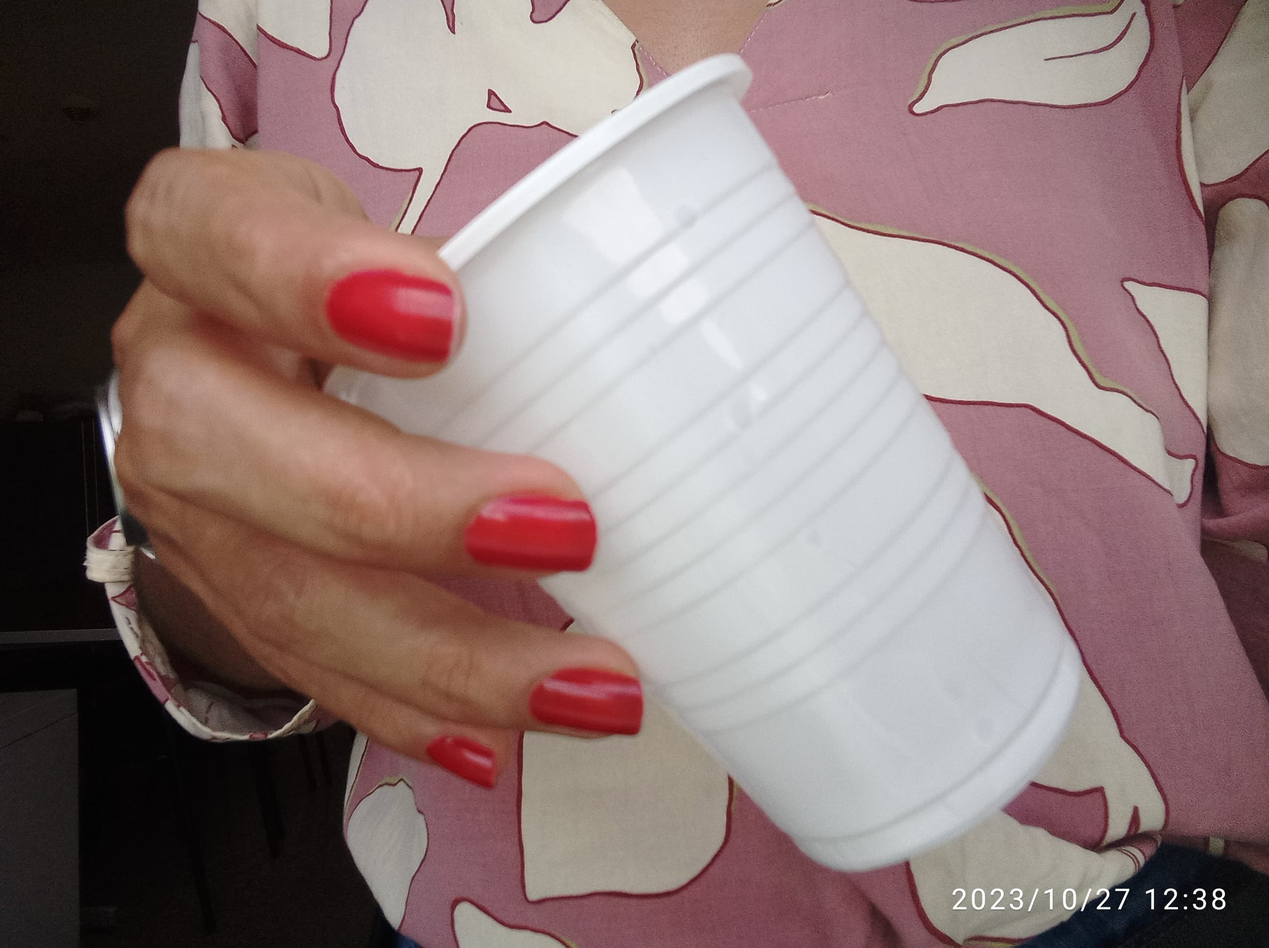Plastico: (329, 53, 1081, 875)
